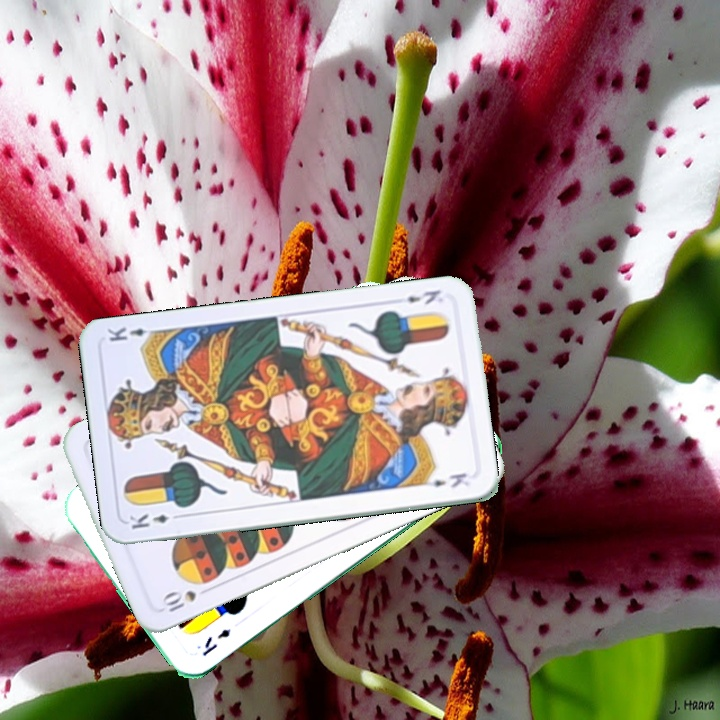EK: (125, 510, 185, 532), (198, 624, 233, 659), (402, 286, 443, 307)
S10: (158, 583, 214, 615)
